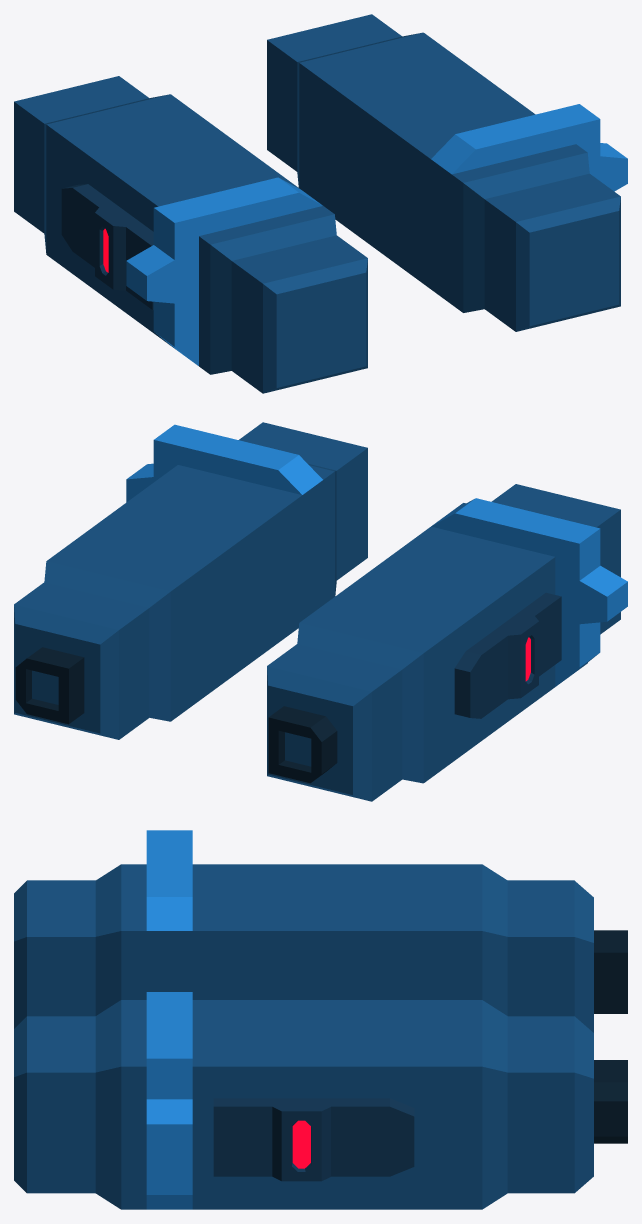
Rendered from turret_barrel1.glb.
3 renders of one model, top to bottom at view 1: azimuth 30°, elevation 25°; view 2: azimuth 150°, elevation 25°; view 3: azimuth 270°, elevation 25°, orthographic. The views are drawn at different scales.
Parts seen in each view (by area): view 1: TurretBarrel1; view 2: TurretBarrel1; view 3: TurretBarrel1.
Part boxes in pixels (bbox=[...]): TurretBarrel1: bbox=[14, 14, 627, 393]; TurretBarrel1: bbox=[14, 422, 627, 801]; TurretBarrel1: bbox=[14, 830, 627, 1209].
Bounding box in the file's own units: 2.95 × 0.8757 × 2.97.
1 material, 1 textured.
